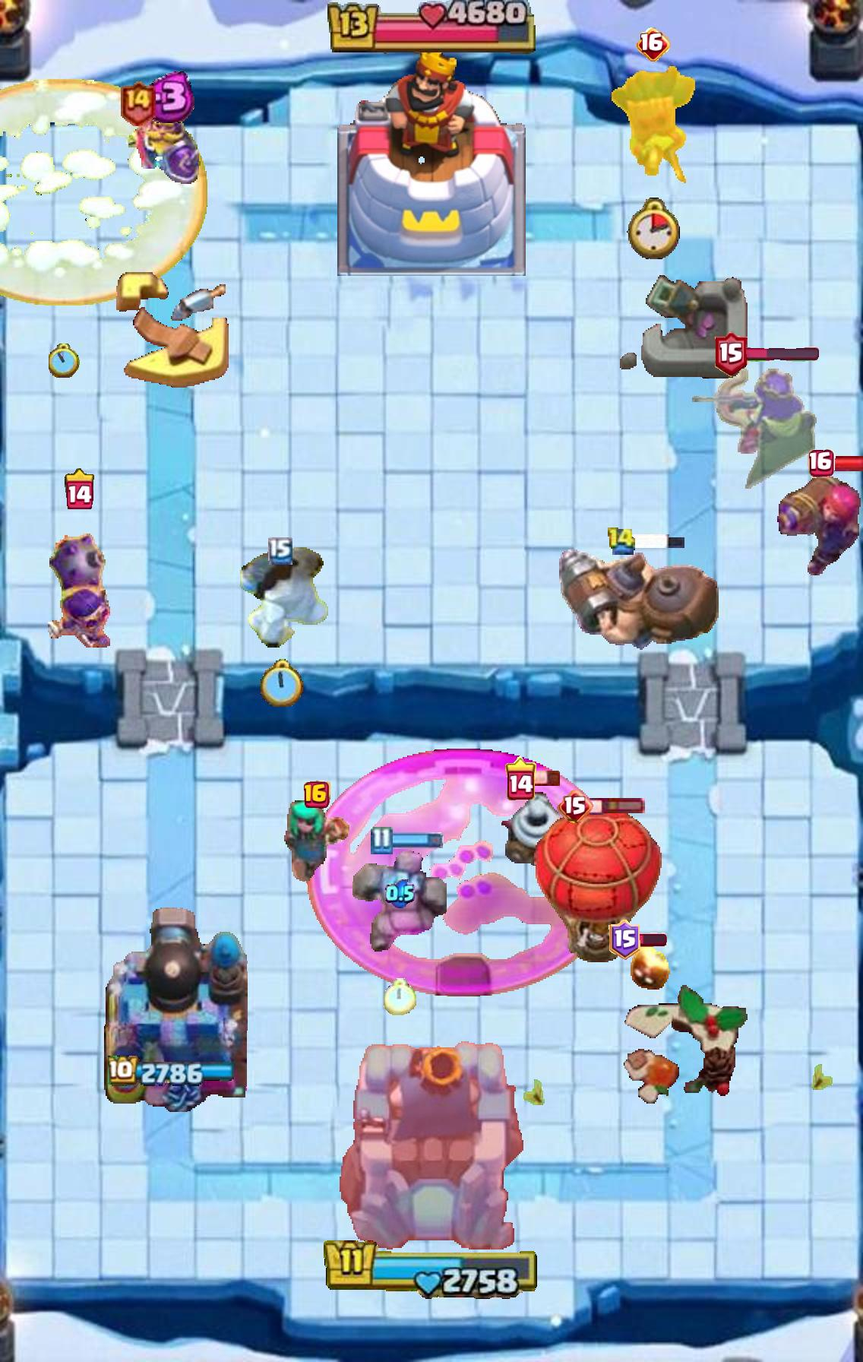bar: (746, 347, 819, 362), (590, 797, 646, 816), (833, 455, 863, 472), (532, 770, 561, 787), (637, 932, 667, 947)
bar-level: (119, 79, 156, 126), (715, 331, 748, 377), (506, 756, 537, 800), (609, 919, 640, 960), (64, 468, 94, 509), (636, 27, 671, 61), (557, 790, 593, 823), (808, 449, 836, 478), (304, 781, 331, 809)
